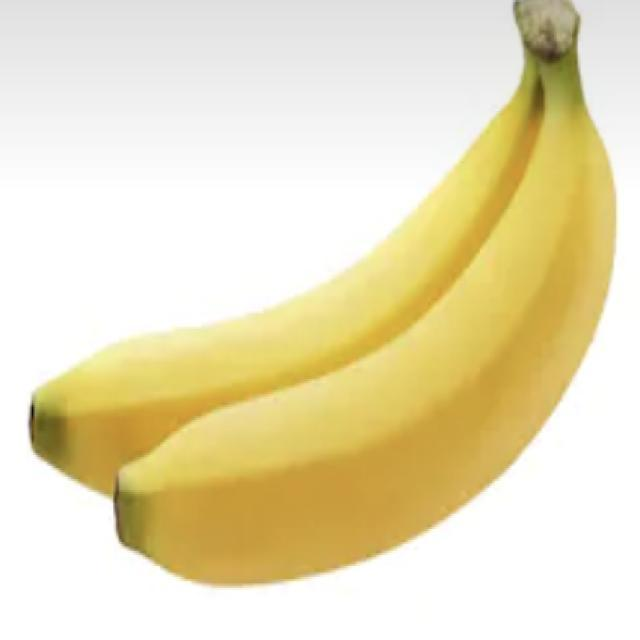Banana: (27, 0, 617, 586)
